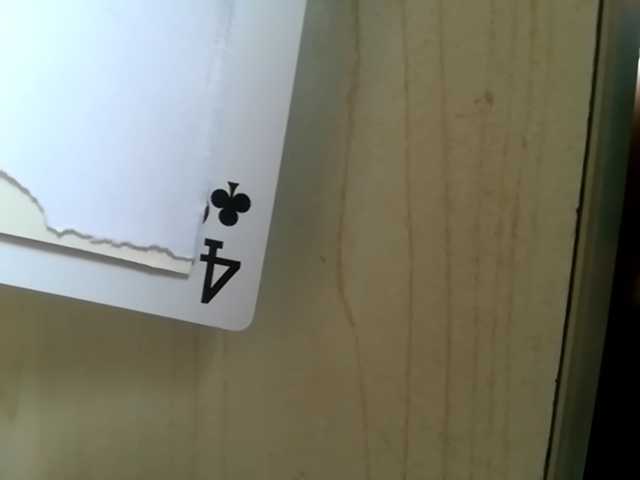mh 4: (153, 160, 283, 332)
